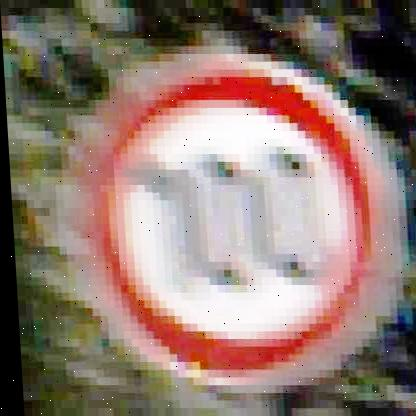Speed Limit -100-: (59, 58, 406, 386)
